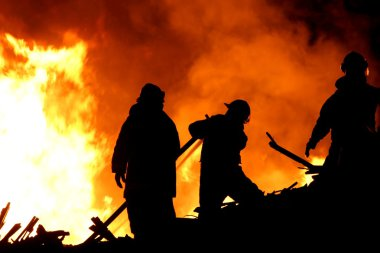fire: (5, 35, 101, 226)
